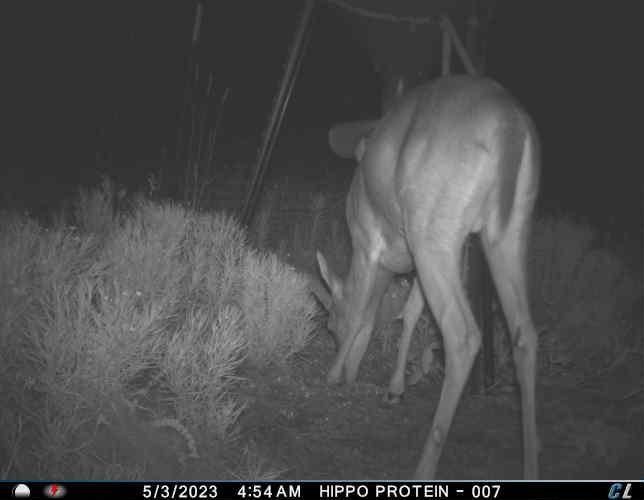Deer: (310, 70, 551, 481)
